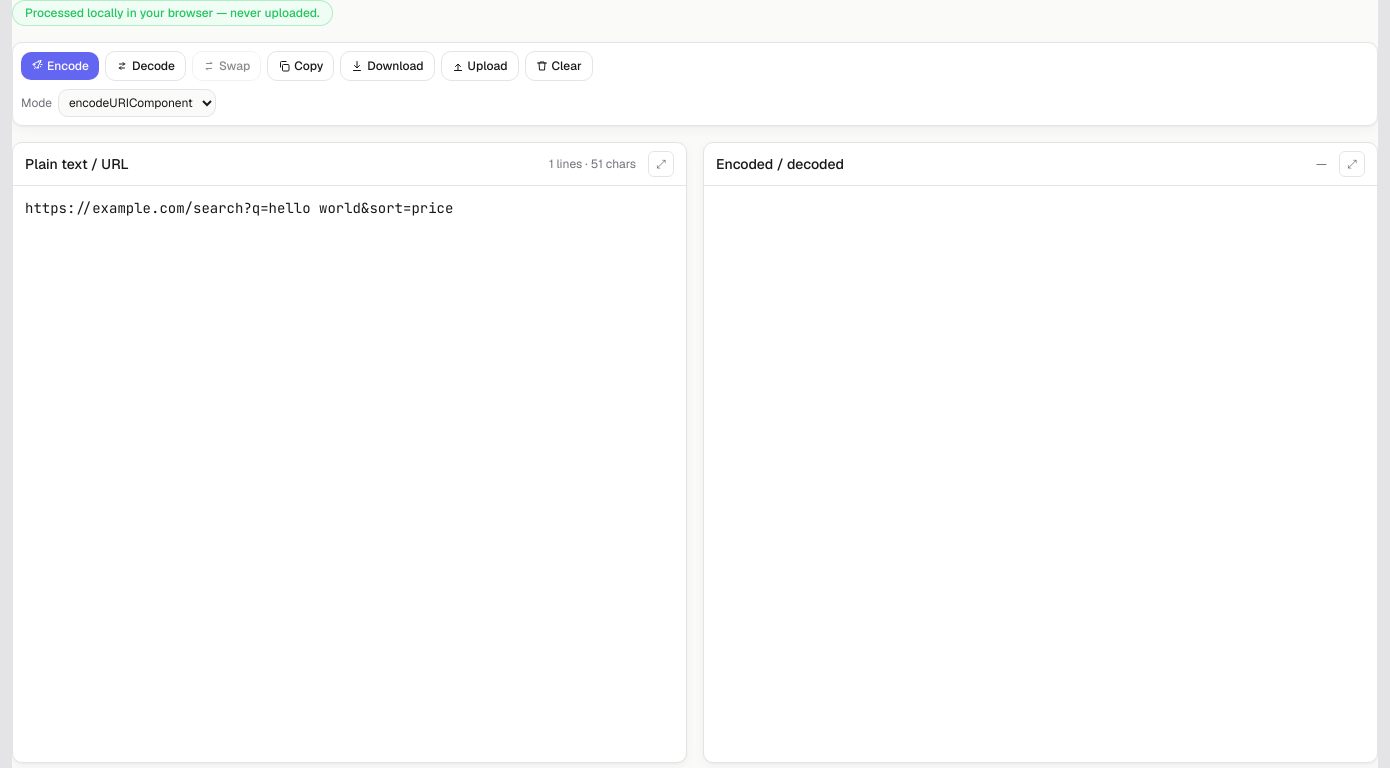
it: UrlTool › decodes percent-encoded input
Clear the text box named "plain text / url" at (350, 474), box [13,186,686,762]
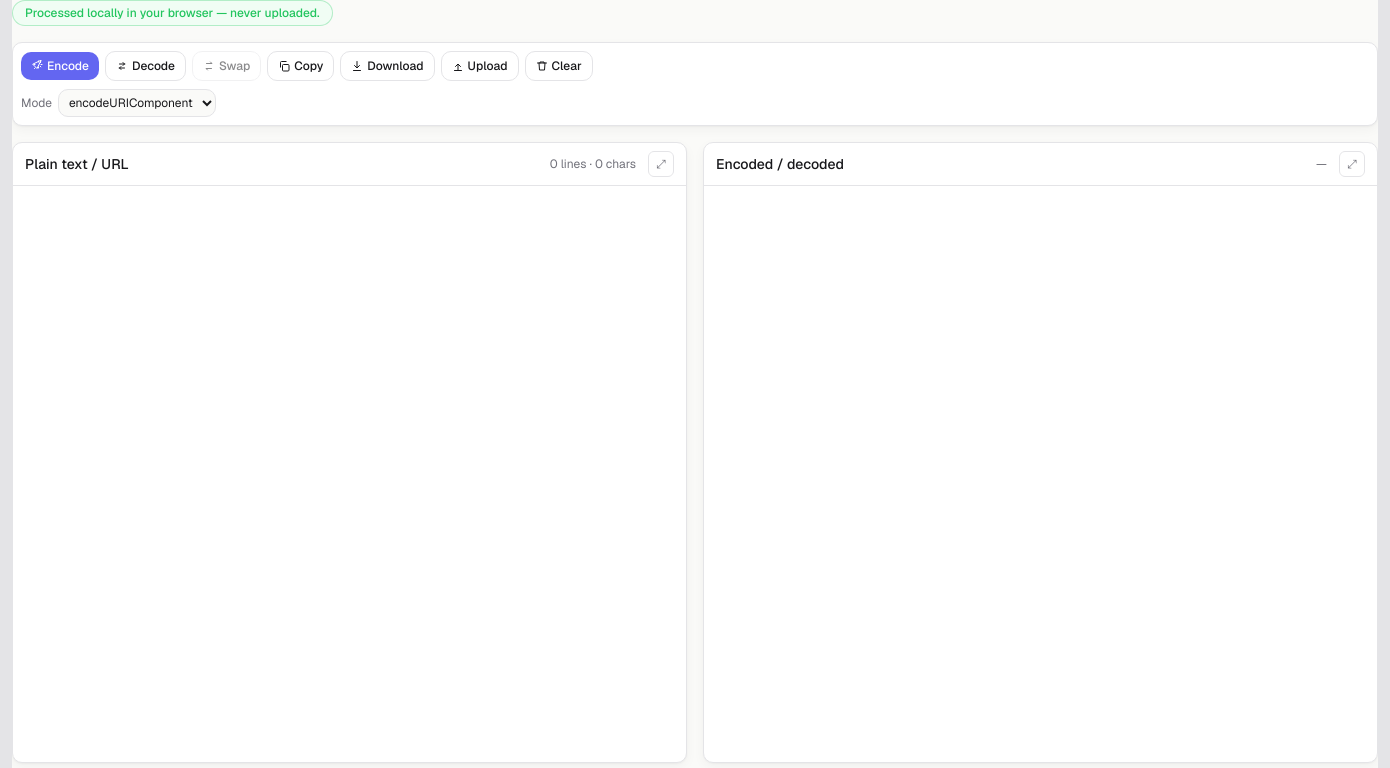
Type keys "hello%20world"
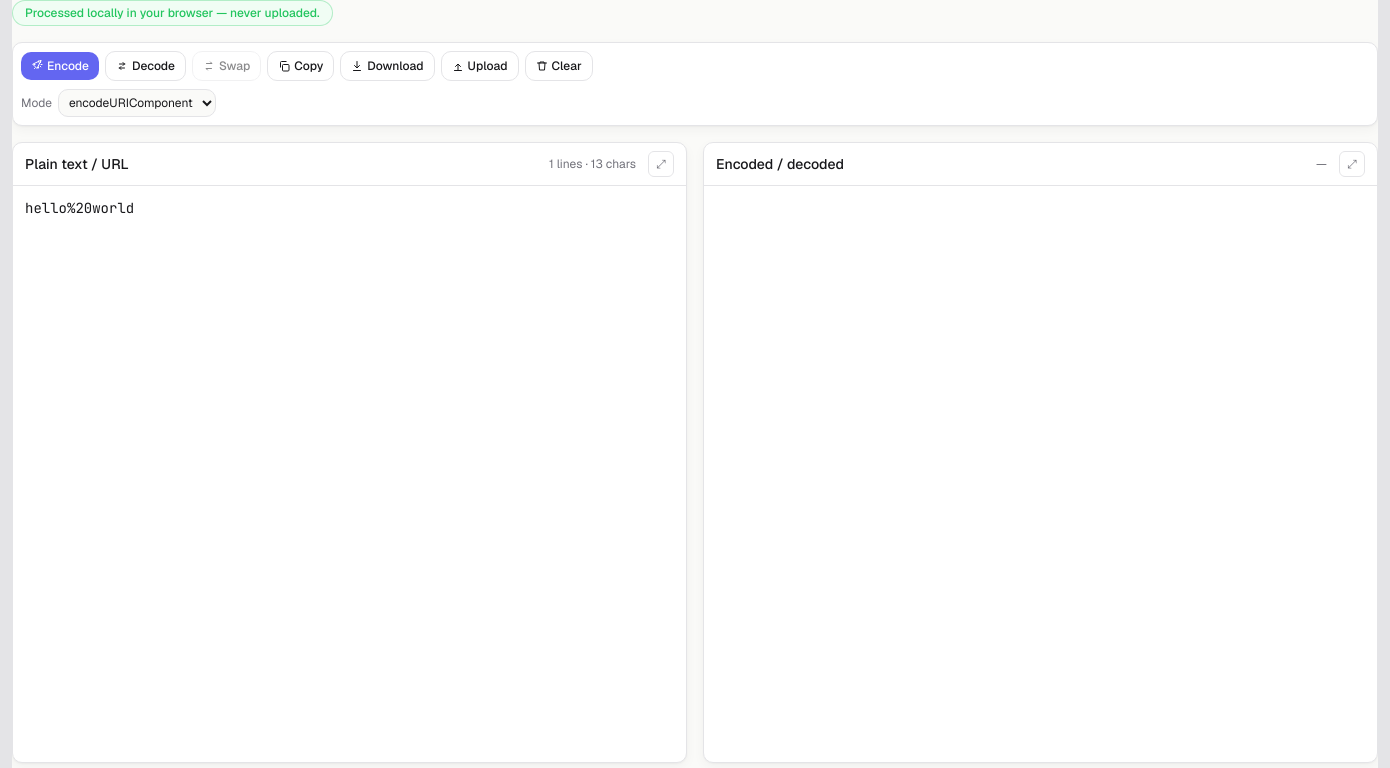
Click the button "Decode" at (145, 66), box [105,51,186,81]
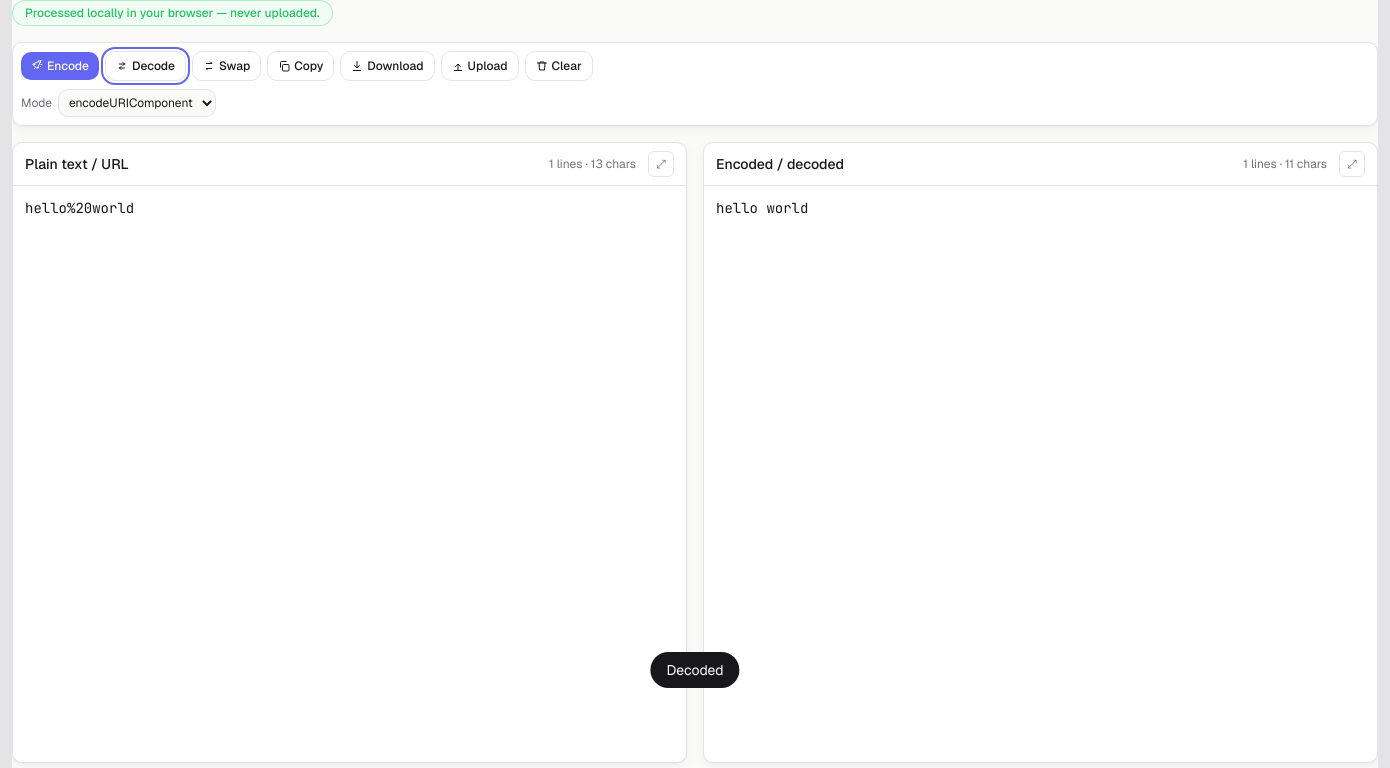
Now the text box named "encoded / decoded" holds "hello world", box [704,186,1377,762]
